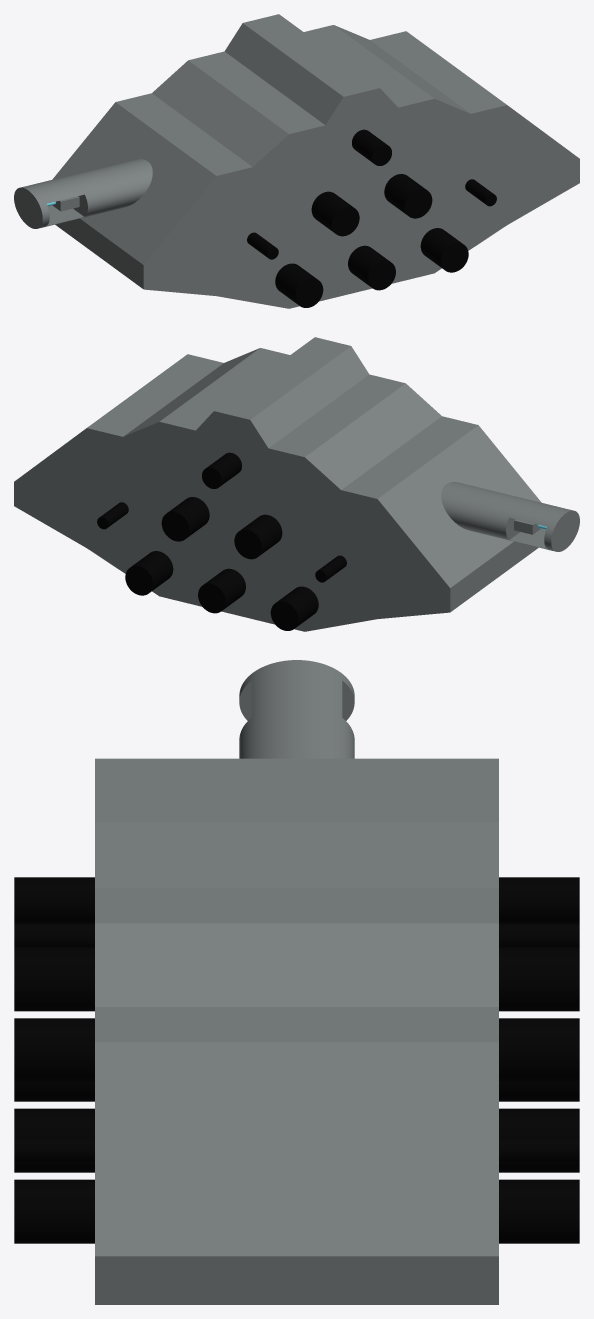
File: roverSubBody.glb
3 views of the same model, one above another, from view 1: azimuth 30°, elevation 25°; view 2: azimuth 150°, elevation 25°; view 3: azimuth 270°, elevation 25° (orthographic). The views are drawn at different scales.
Visible parts, largest first — view 1: Part 9; view 2: Part 9, Part 8, Part 2, Part 4, Part 5, Part 6, Part 1, Part 7, Part 3; view 3: Part 9, Part 4, Part 8, Part 2, Part 1, Part 5, Part 3, Part 7, Part 6.
Boxes of the visible parts, x1,y1,x2,y2 form: Part 9: (14, 14, 579, 308); Part 9: (14, 337, 579, 631); Part 8: (234, 514, 282, 559); Part 2: (161, 497, 209, 541); Part 4: (125, 551, 173, 595); Part 5: (198, 568, 245, 613); Part 6: (270, 586, 318, 630); Part 1: (202, 452, 241, 488); Part 7: (315, 555, 346, 582); Part 3: (97, 502, 128, 529); Part 9: (14, 660, 498, 1304); Part 4: (499, 1179, 579, 1243); Part 8: (499, 947, 579, 1011); Part 2: (499, 1018, 579, 1082); Part 1: (499, 877, 579, 923); Part 5: (499, 1108, 579, 1172); Part 3: (499, 1136, 579, 1163); Part 7: (499, 923, 579, 947); Part 6: (499, 1082, 579, 1101).
Size of the model in its own units: 4.37 by 1.65 by 2.13.
3 materials, 3 textured.
